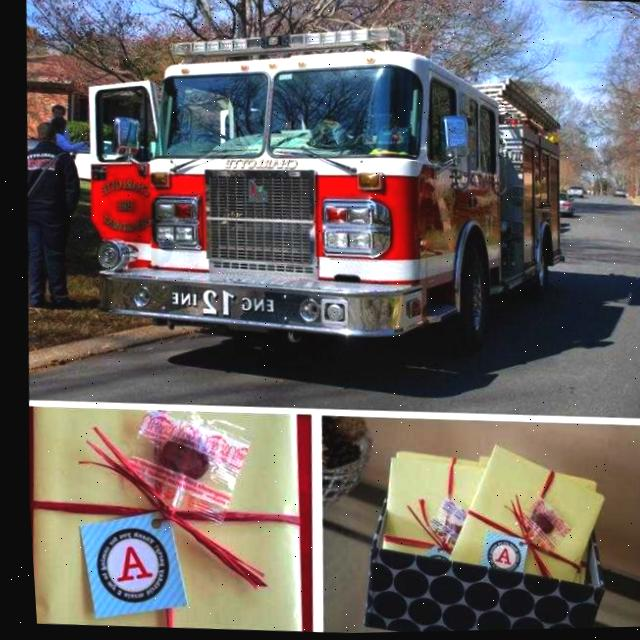emergency: (70, 10, 577, 362)
